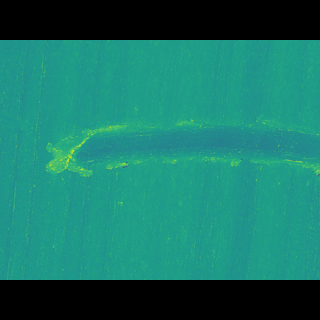Loch: (42, 125, 320, 173)
